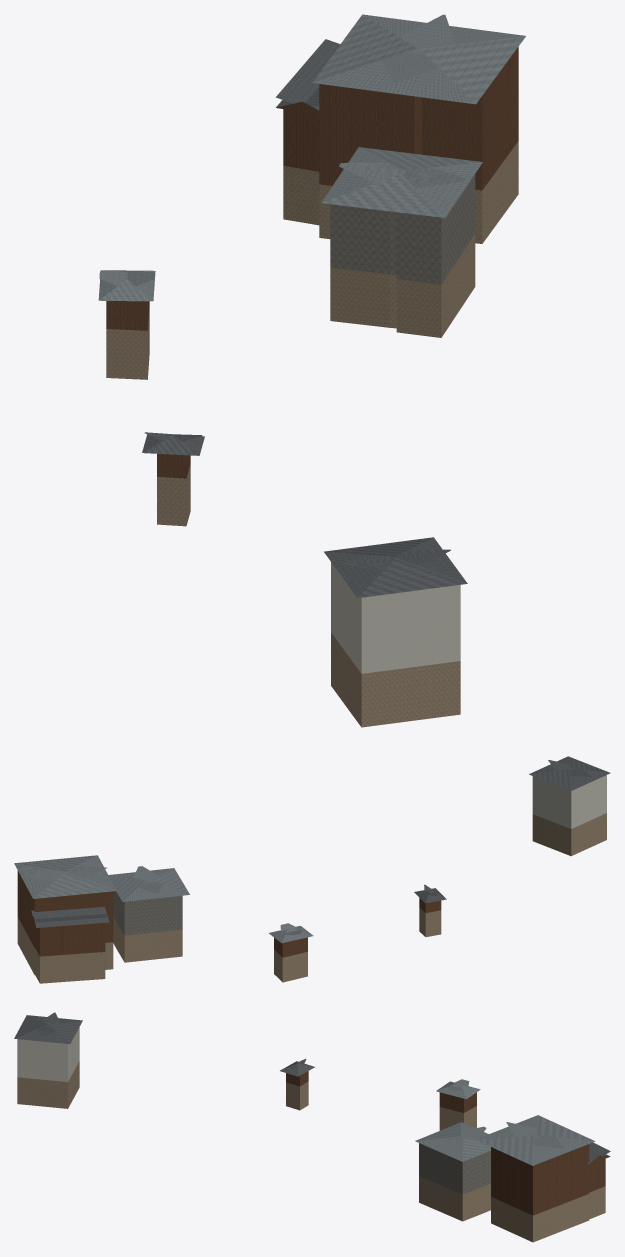
File: bld_c21_44_387.gltf
3 renders of one model, top to bottom at view 1: azimuth 30°, elevation 25°; view 2: azimuth 150°, elevation 25°; view 3: azimuth 270°, elevation 25°, orthographic. The views are drawn at different scales.
Visible parts, largest first — view 1: bld_c21_44_387; view 2: bld_c21_44_387; view 3: bld_c21_44_387.
Part boxes in pixels (box(x1,y1,x2,y2)): bld_c21_44_387: box(98, 14, 525, 727); bld_c21_44_387: box(14, 756, 610, 983); bld_c21_44_387: box(14, 1012, 610, 1242).
Size of the model in its own units: 67.19 by 17.2 by 103.
Materials: 7 (7 with a texture image).
